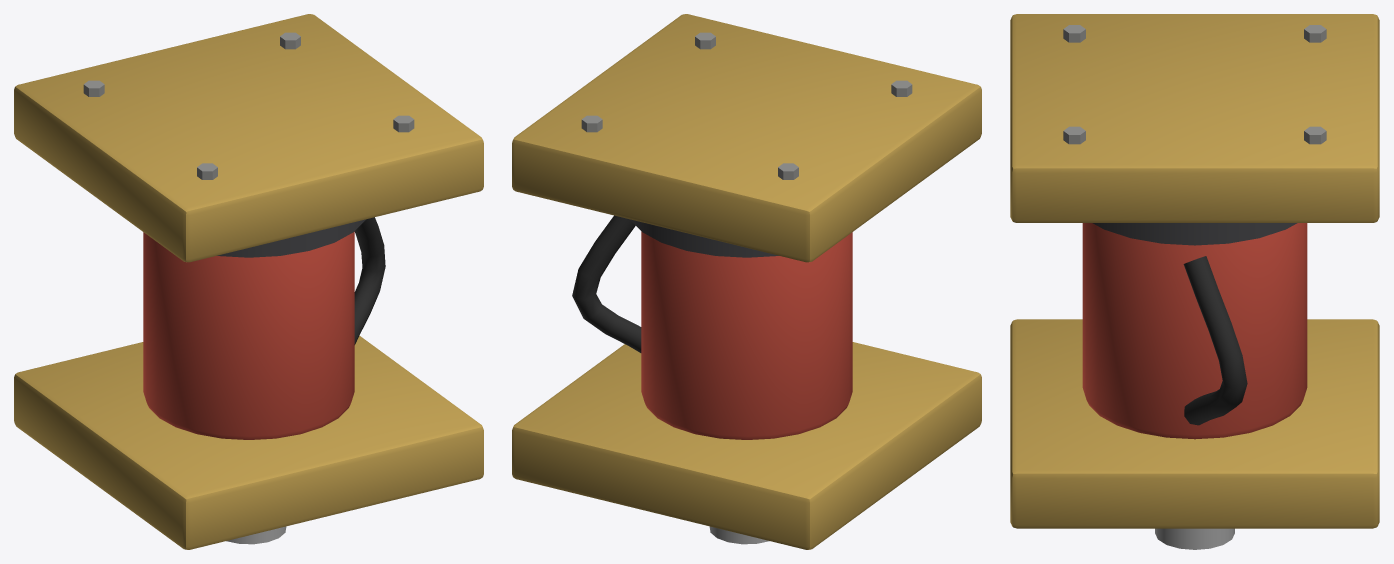
The model's file is piston.glb.
3 views of the same model, side by side, from view 1: azimuth 30°, elevation 25°; view 2: azimuth 150°, elevation 25°; view 3: azimuth 270°, elevation 25° (orthographic). The views are drawn at different scales.
Parts seen in each view (by area): view 1: Part, Top; view 2: Part, Top; view 3: Part, Top.
Part boxes in pixels (<box>): Part: <box>14,217,483,549</box>; Top: <box>14,14,483,544</box>; Part: <box>512,215,981,549</box>; Top: <box>512,14,981,544</box>; Part: <box>1010,223,1379,528</box>; Top: <box>1010,14,1379,549</box>.
Size of the model in its own units: 0.4655 by 0.623 by 0.46.
